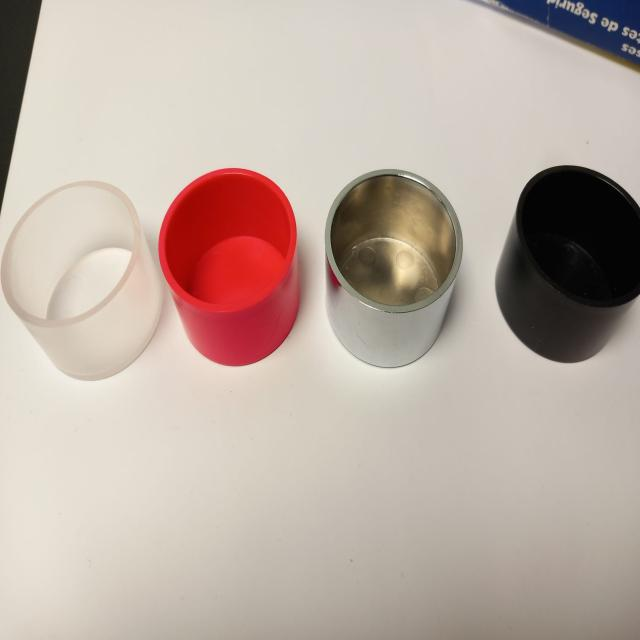NoLid: (155, 164, 309, 362), (327, 154, 466, 368), (501, 158, 639, 362)
